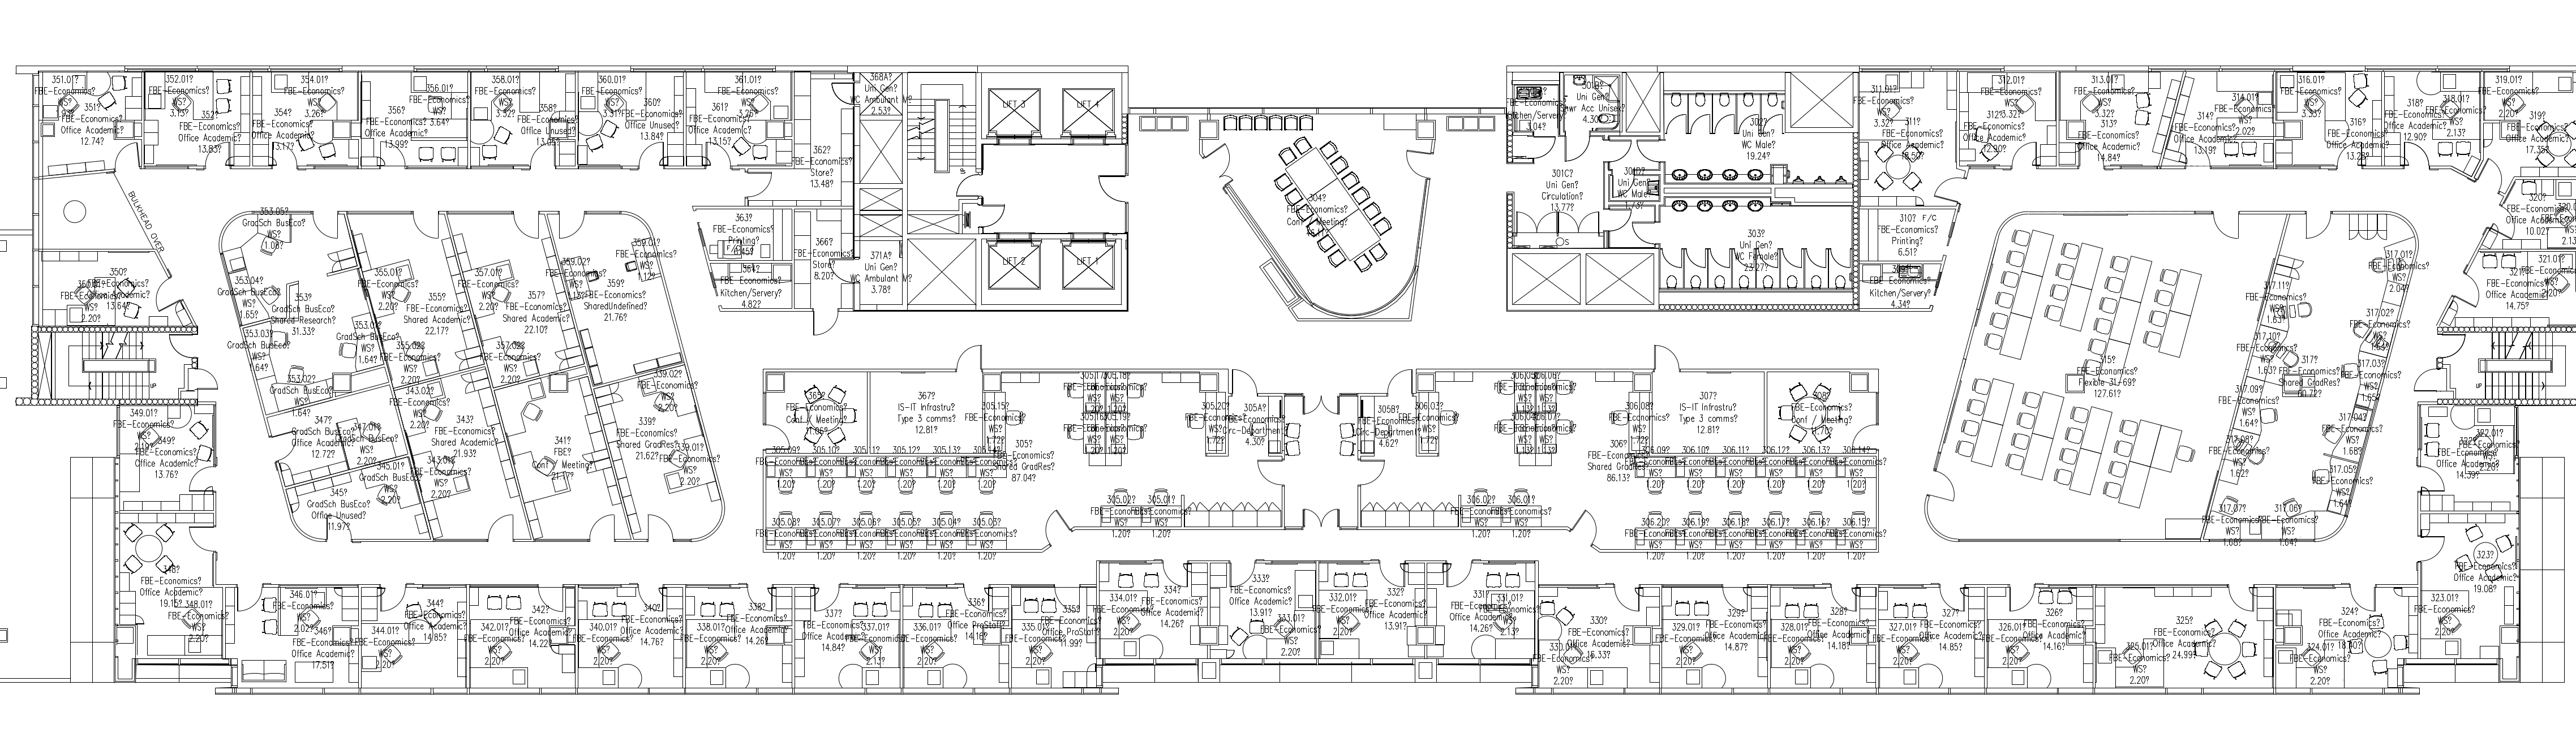text: (2201, 212, 2430, 552), (1621, 452, 1888, 565), (749, 452, 1020, 562), (1055, 366, 1150, 460), (1492, 368, 1574, 463), (1579, 390, 1679, 462), (1439, 587, 1548, 649), (1183, 386, 1288, 449), (1546, 606, 1628, 682), (1326, 386, 1416, 452), (1089, 486, 1193, 542), (1761, 383, 1860, 440), (698, 196, 780, 260), (2435, 419, 2520, 480), (1580, 436, 1661, 500), (1870, 199, 1952, 260), (1449, 493, 1552, 541), (1658, 385, 1740, 442), (260, 288, 343, 343), (613, 82, 683, 146), (2137, 608, 2219, 662), (936, 582, 1005, 646), (606, 408, 678, 468), (2070, 348, 2142, 409), (2451, 544, 2525, 602), (1958, 104, 2034, 159), (432, 408, 501, 468), (356, 99, 434, 153), (889, 380, 963, 436), (2205, 87, 2282, 140), (839, 608, 905, 669), (1707, 600, 1773, 661), (782, 388, 849, 447), (1878, 113, 1953, 166), (2101, 633, 2170, 690), (278, 414, 363, 460), (2017, 602, 2090, 656), (524, 432, 598, 485), (724, 595, 792, 652), (994, 432, 1063, 488), (499, 283, 570, 337), (1503, 79, 1564, 141), (1860, 265, 1945, 309), (274, 71, 348, 122), (406, 79, 473, 135), (1566, 76, 1633, 131), (616, 600, 685, 654), (2479, 260, 2550, 312), (586, 271, 649, 330), (1362, 577, 1426, 634), (2310, 605, 2387, 652), (140, 67, 218, 113), (715, 64, 784, 117), (2509, 107, 2573, 163), (2509, 191, 2576, 243), (1978, 71, 2045, 123), (131, 432, 200, 483), (404, 286, 473, 337), (887, 616, 956, 667), (1285, 191, 1354, 242), (1140, 582, 1209, 633), (2073, 120, 2152, 164), (475, 67, 537, 123), (1920, 600, 1983, 656), (798, 606, 862, 661), (1086, 583, 1150, 638), (688, 99, 754, 151), (2412, 587, 2477, 639), (48, 278, 120, 325), (2272, 353, 2344, 401), (2318, 118, 2392, 164), (404, 592, 467, 646), (2512, 243, 2576, 296), (171, 110, 246, 154), (460, 616, 526, 667), (711, 265, 784, 311), (138, 560, 205, 610), (2070, 67, 2137, 117), (1043, 598, 1102, 654), (85, 265, 154, 312), (851, 67, 915, 118), (1807, 603, 1871, 654), (513, 100, 578, 150), (248, 105, 315, 153), (1002, 613, 1061, 667), (304, 488, 378, 531), (568, 618, 632, 667), (2280, 71, 2344, 120), (509, 605, 575, 652), (854, 245, 910, 301), (1401, 394, 1457, 450), (2290, 633, 2346, 689), (2484, 69, 2538, 127), (1667, 613, 1718, 674), (57, 104, 130, 146), (790, 232, 853, 281), (350, 623, 414, 671), (1255, 613, 1319, 661), (1853, 79, 1917, 127), (1607, 161, 1661, 217), (1313, 588, 1375, 636), (1229, 572, 1293, 618), (2382, 99, 2446, 145), (1985, 615, 2040, 667), (1763, 613, 1820, 664), (787, 150, 864, 187), (1539, 159, 1589, 219), (2177, 107, 2238, 154), (271, 590, 333, 636), (1730, 113, 1786, 164), (1732, 228, 1789, 278), (291, 628, 356, 671), (110, 404, 176, 447), (166, 600, 228, 644), (38, 69, 100, 113), (583, 67, 641, 113), (2435, 89, 2481, 145), (1874, 615, 1925, 664)
